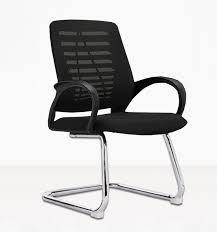chair: (38, 10, 190, 225)
